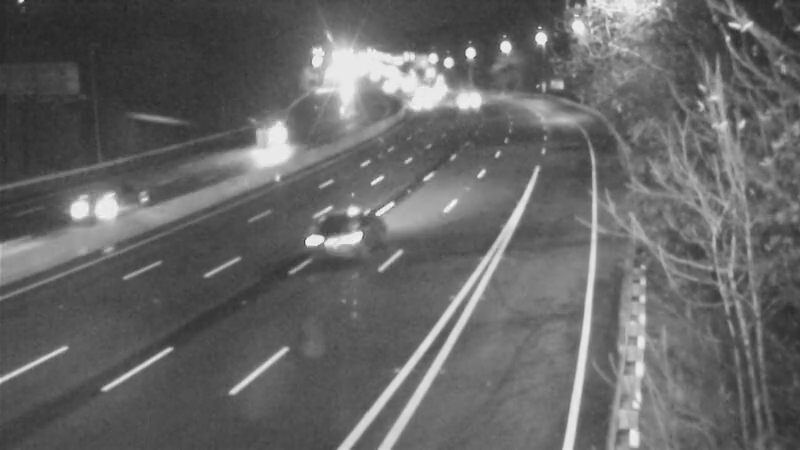vehicle: (302, 204, 382, 284), (49, 168, 129, 248), (397, 68, 447, 118), (441, 77, 491, 127), (252, 110, 302, 160)
